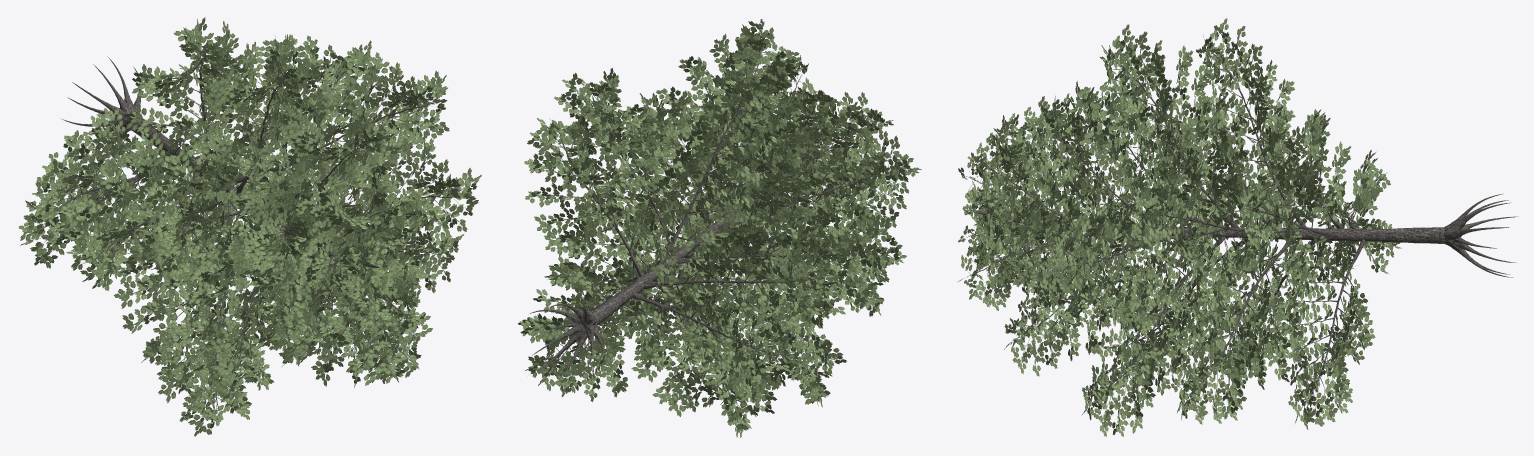
The picture shows the model from 3 angles, left to right: view 1: azimuth 30°, elevation 25°; view 2: azimuth 150°, elevation 25°; view 3: azimuth 270°, elevation 25°; orthographic projection. The views are drawn at different scales.
Visible parts, largest first — view 1: BL02a; view 2: BL02a; view 3: BL02a.
Part boxes in pixels (bbox=[...]): BL02a: bbox=[18, 17, 481, 436]; BL02a: bbox=[518, 19, 921, 437]; BL02a: bbox=[958, 18, 1518, 436].
Bounding box in the file's own units: 15.39 × 15.51 × 20.29.
Materials: 2 (2 with a texture image).
